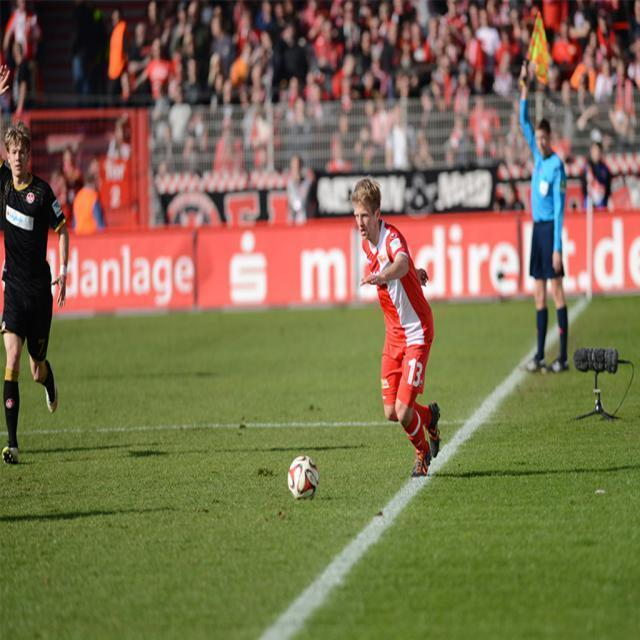ball: (287, 457, 316, 508)
